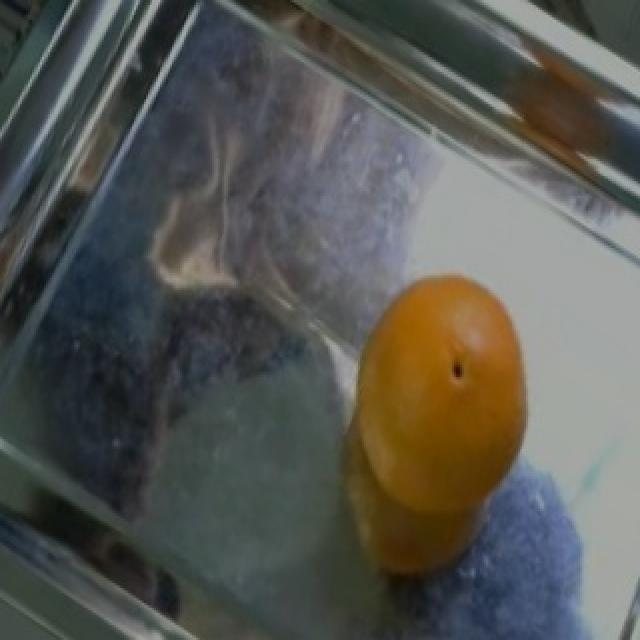Fruit: (318, 248, 556, 603)
